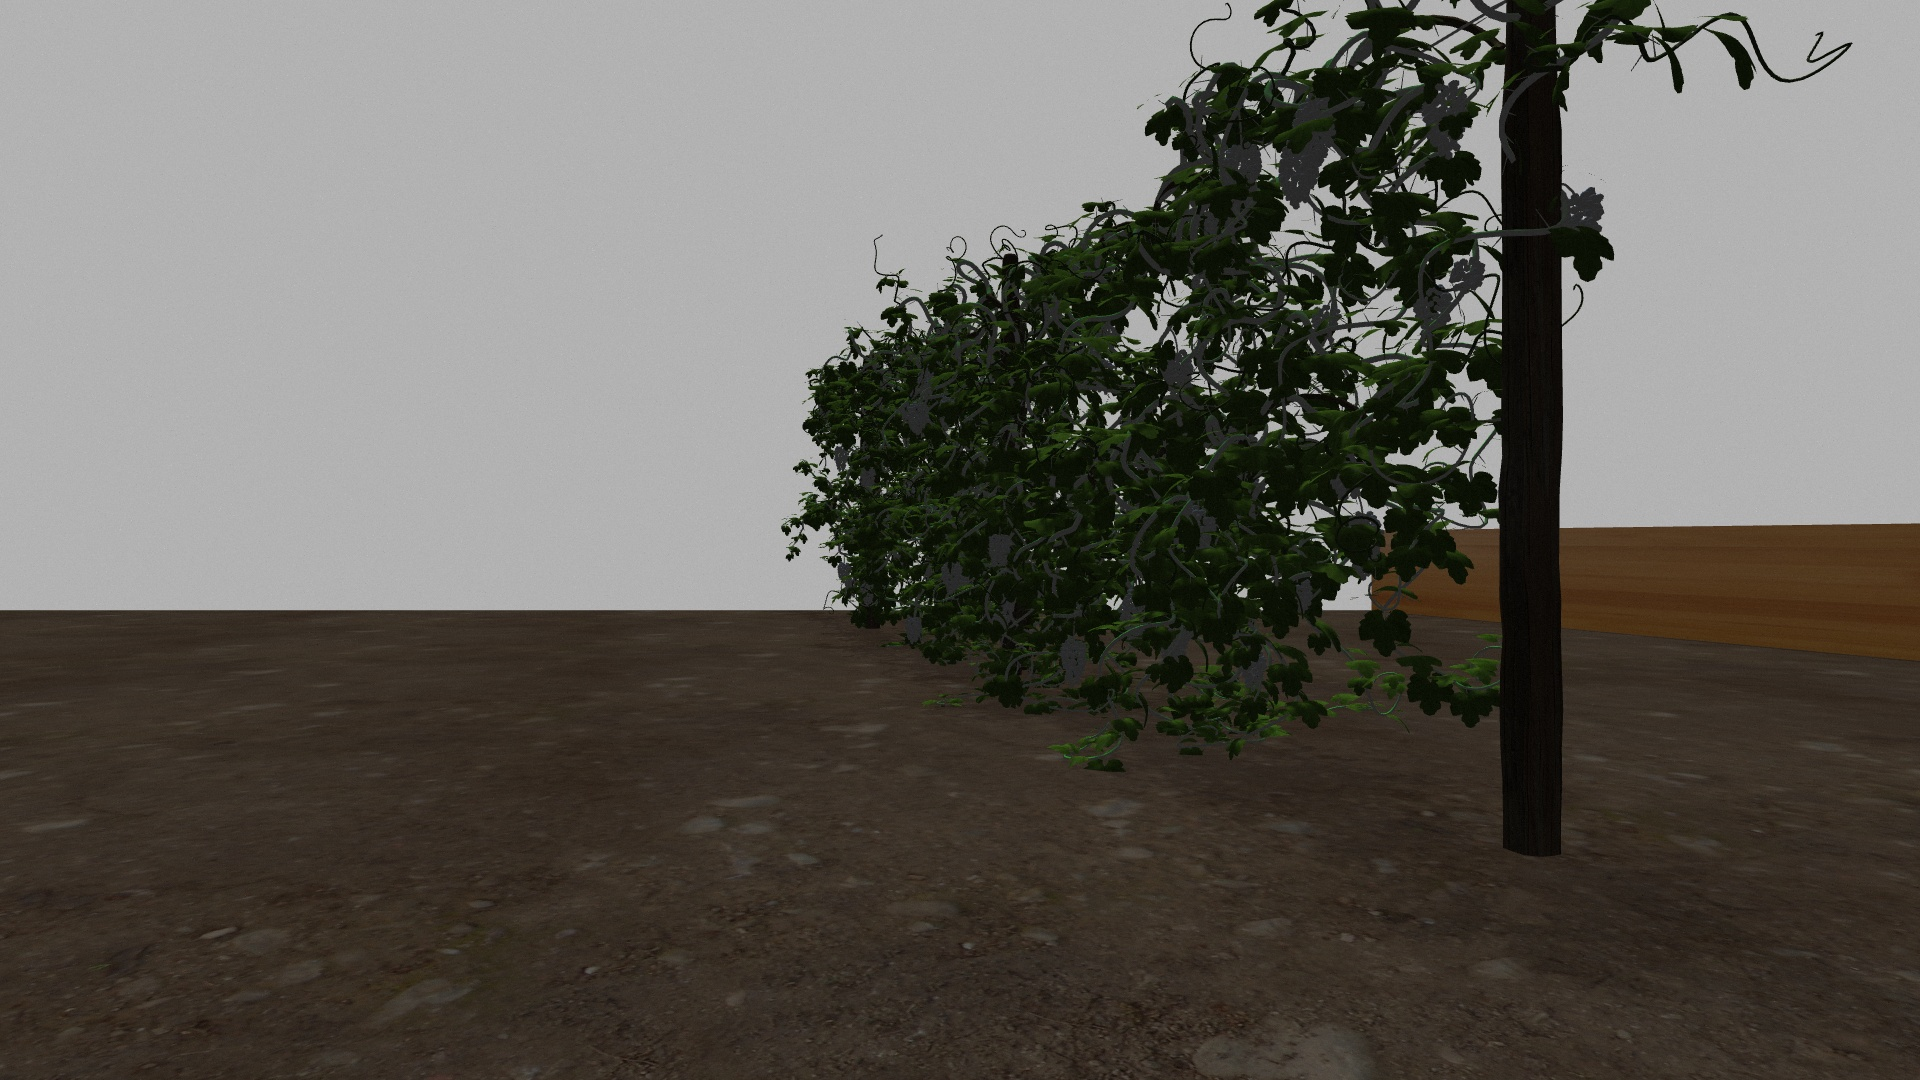grape: (1425, 79, 1469, 160), (1292, 96, 1337, 166), (1275, 146, 1319, 210), (1222, 140, 1262, 190), (1567, 185, 1607, 231), (1416, 287, 1453, 334), (1062, 634, 1091, 688), (1448, 256, 1486, 295), (1163, 349, 1195, 394), (1120, 588, 1145, 638), (1162, 626, 1193, 661), (1242, 650, 1269, 691), (939, 559, 963, 596), (986, 531, 1011, 566), (906, 402, 930, 436), (1294, 580, 1313, 615), (903, 617, 923, 645), (832, 446, 851, 472), (858, 467, 876, 495), (858, 582, 876, 607), (837, 563, 852, 585)
